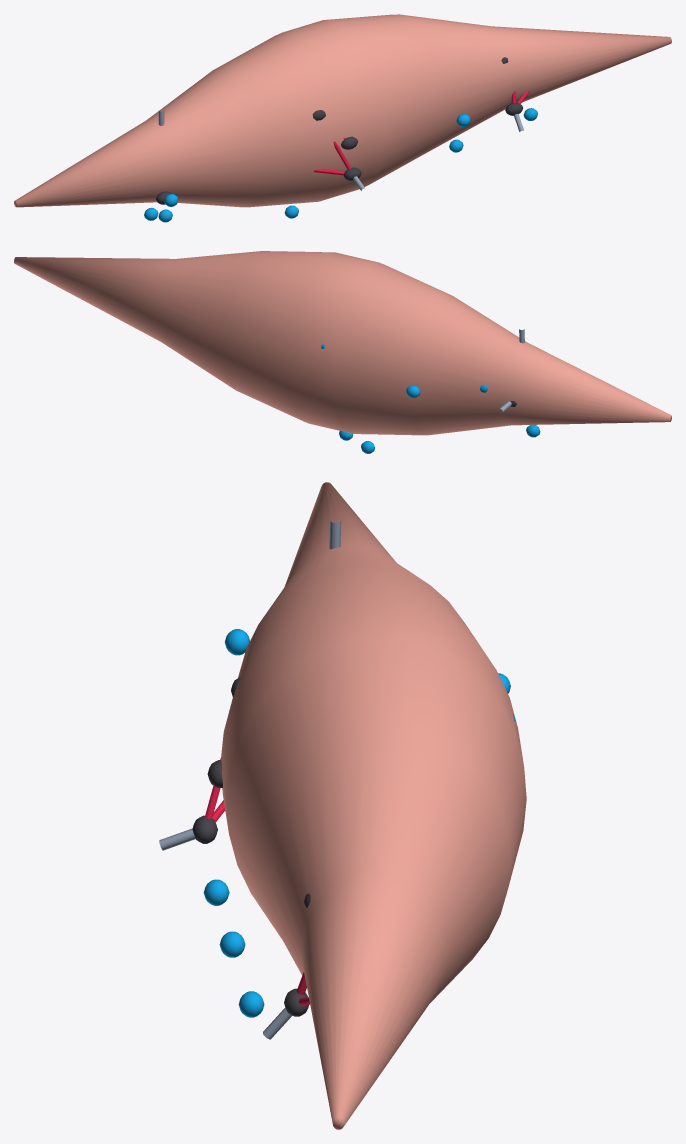
Rendered from smoothcell.glb.
The picture shows the model from 3 angles, top to bottom: view 1: azimuth 30°, elevation 25°; view 2: azimuth 150°, elevation 25°; view 3: azimuth 270°, elevation 25°; orthographic projection. The views are drawn at different scales.
Visible parts, largest first — view 1: Plasma membrane, Caveolae, Dense bodies, Contractile filaments; view 2: Plasma membrane, Caveolae; view 3: Plasma membrane, Caveolae, Dense bodies, Intermediate filaments.
Part boxes in pixels (x1,y1,x2,y2): Plasma membrane: (14,14,671,207); Caveolae: (144,108,537,222); Dense bodies: (156,57,522,204); Contractile filaments: (313,91,529,175); Plasma membrane: (14,251,671,435); Caveolae: (321,344,540,453); Plasma membrane: (221,482,526,1129); Caveolae: (203,629,515,1017); Dense bodies: (192,677,310,1016); Intermediate filaments: (159,521,341,1039).
Bounding box in the file's own units: 7 × 1.87 × 1.71.
